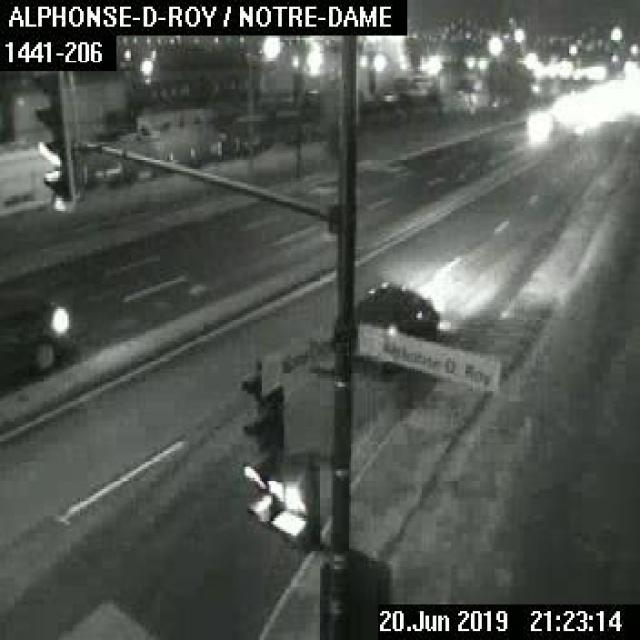vehicle: (334, 278, 440, 374), (0, 284, 67, 382)
